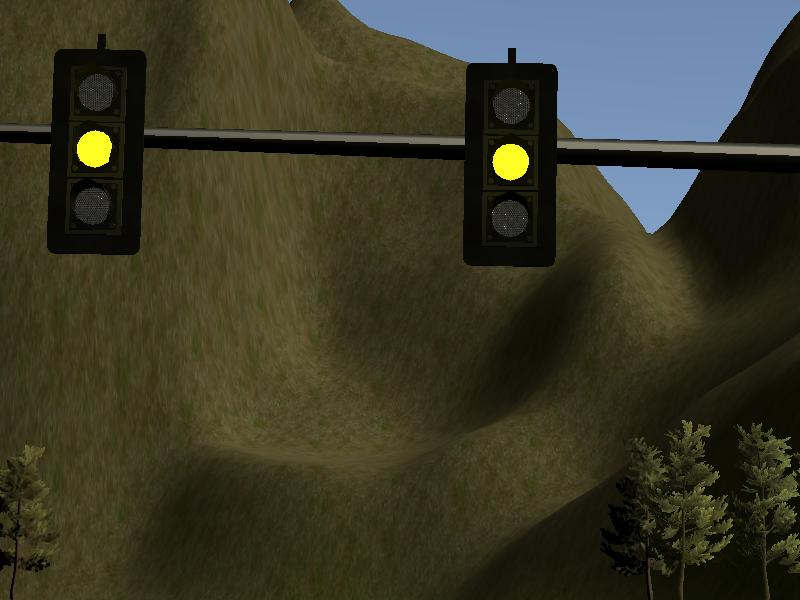yellow: (52, 51, 141, 254), (466, 61, 555, 264)
